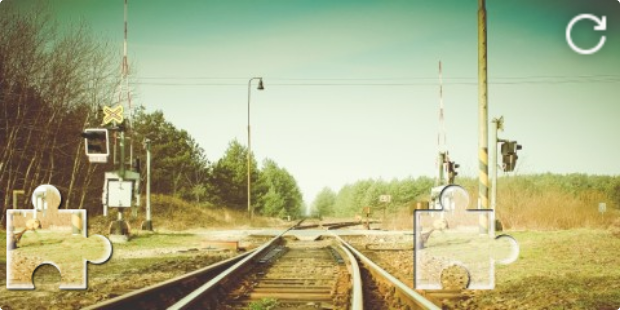target: (414, 184, 520, 289)
